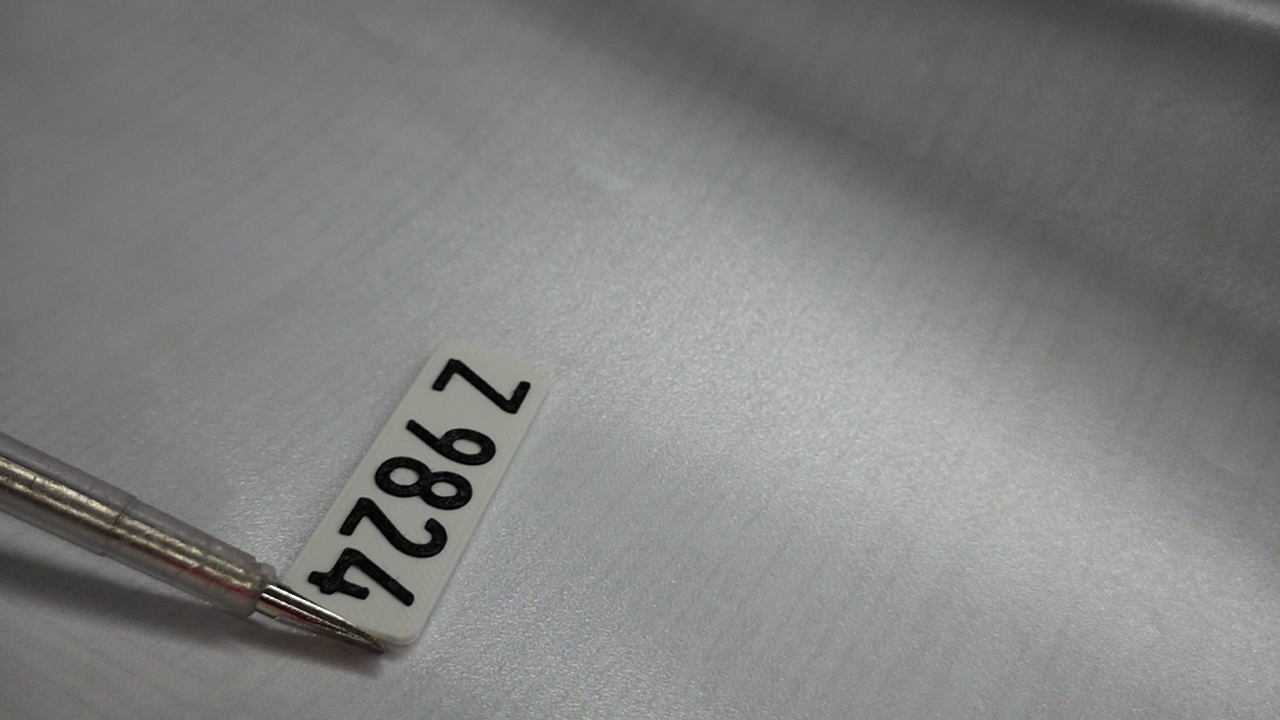license_plate: (271, 333, 556, 654)
